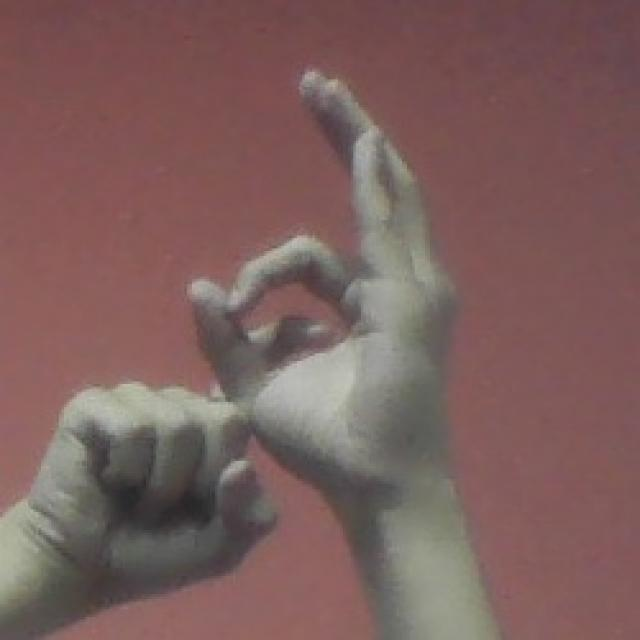Alphabet-Q: (0, 65, 508, 640)
